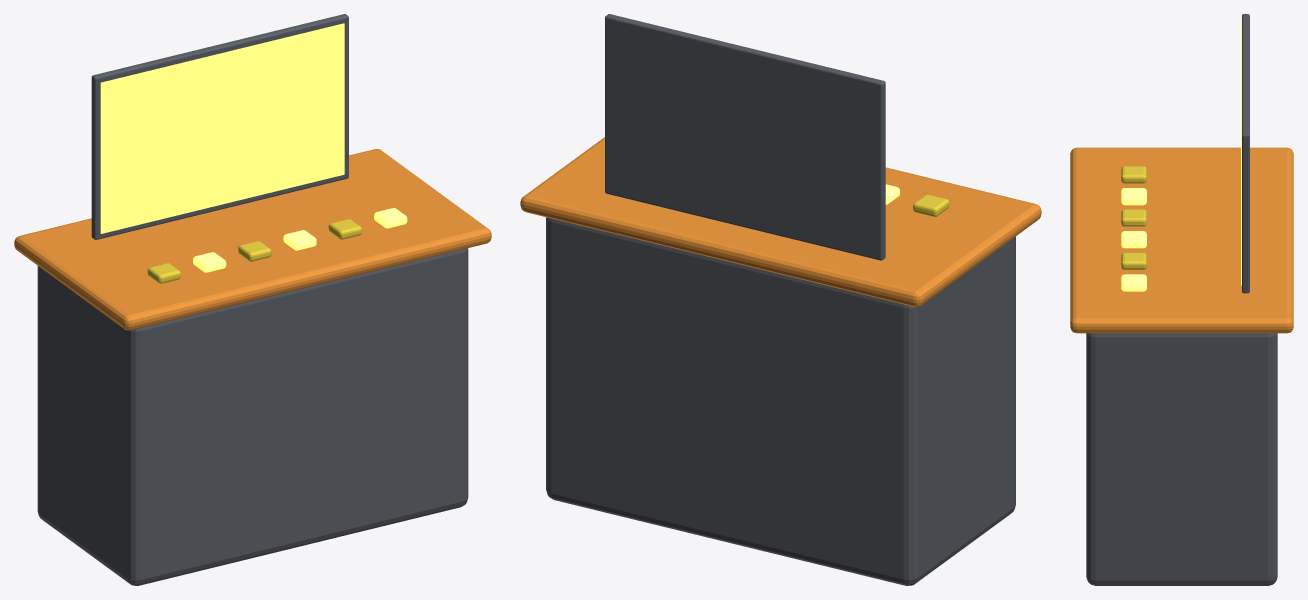
Rendered from engineering_station_diagnostics.glb.
3 views of the same model, side by side, from view 1: azimuth 30°, elevation 25°; view 2: azimuth 150°, elevation 25°; view 3: azimuth 270°, elevation 25° (orthographic). The views are drawn at different scales.
Visible parts, largest first — view 1: GD_engineering_station_diagnostics__m0, GD_engineering_station_diagnostics__m1, GD_engineering_station_diagnostics__m2, GD_engineering_station_diagnostics__m4, GD_engineering_station_diagnostics__m3; view 2: GD_engineering_station_diagnostics__m0, GD_engineering_station_diagnostics__m1; view 3: GD_engineering_station_diagnostics__m0, GD_engineering_station_diagnostics__m1, GD_engineering_station_diagnostics__m4, GD_engineering_station_diagnostics__m3.
Boxes of the visible parts, x1,y1,x2,y2 form: GD_engineering_station_diagnostics__m0: (37,14,468,585); GD_engineering_station_diagnostics__m1: (14,149,491,330); GD_engineering_station_diagnostics__m2: (100,23,344,233); GD_engineering_station_diagnostics__m4: (193,208,407,272); GD_engineering_station_diagnostics__m3: (147,219,361,283); GD_engineering_station_diagnostics__m0: (546,14,1015,585); GD_engineering_station_diagnostics__m1: (520,137,1041,307); GD_engineering_station_diagnostics__m0: (1086,14,1277,585); GD_engineering_station_diagnostics__m1: (1070,147,1293,333); GD_engineering_station_diagnostics__m4: (1121,188,1146,291); GD_engineering_station_diagnostics__m3: (1121,166,1146,269).
Size of the model in its own units: 1.3 by 1.5 by 0.7.
